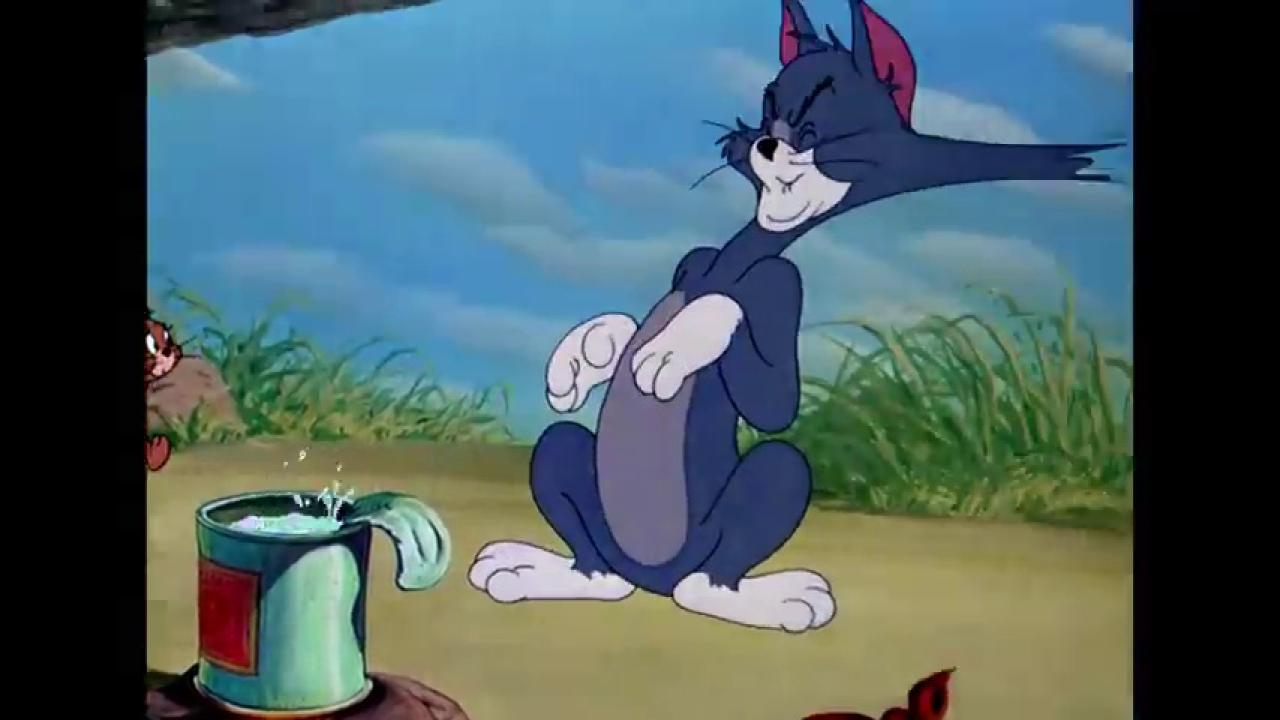Tom: (470, 1, 1131, 636)
